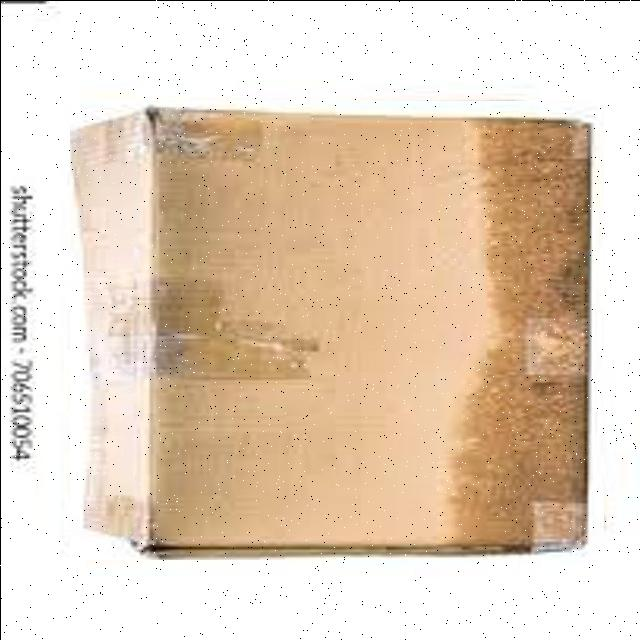defect: (69, 100, 603, 559)
